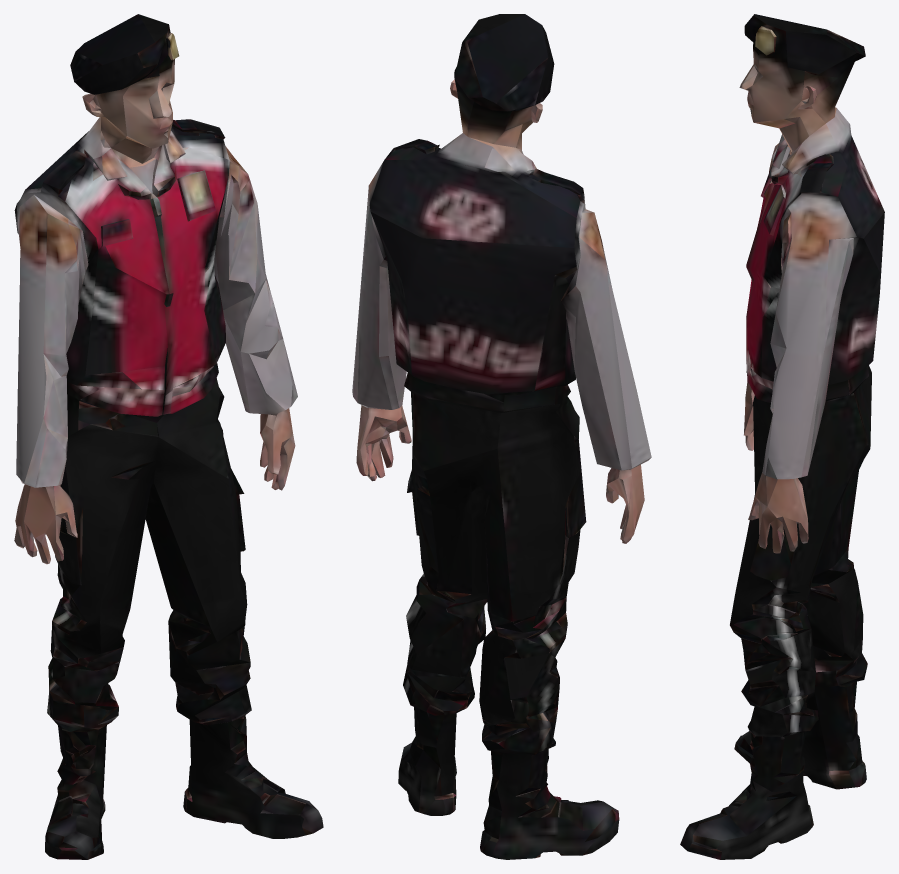
The model's file is samapta_idle_lod2.glb.
3 renders of one model, left to right at view 1: azimuth 30°, elevation 25°; view 2: azimuth 150°, elevation 25°; view 3: azimuth 270°, elevation 25°, orthographic. The views are drawn at different scales.
Visible parts, largest first — view 1: tripo_node_9ba8d930; view 2: tripo_node_9ba8d930; view 3: tripo_node_9ba8d930.
Boxes of the visible parts, x1,y1,x2,y2 form: tripo_node_9ba8d930: (14, 14, 323, 859); tripo_node_9ba8d930: (352, 14, 651, 859); tripo_node_9ba8d930: (680, 14, 884, 859).
Bounding box in the file's own units: 36.63 × 98.96 × 23.48.
1 material, 1 textured.
